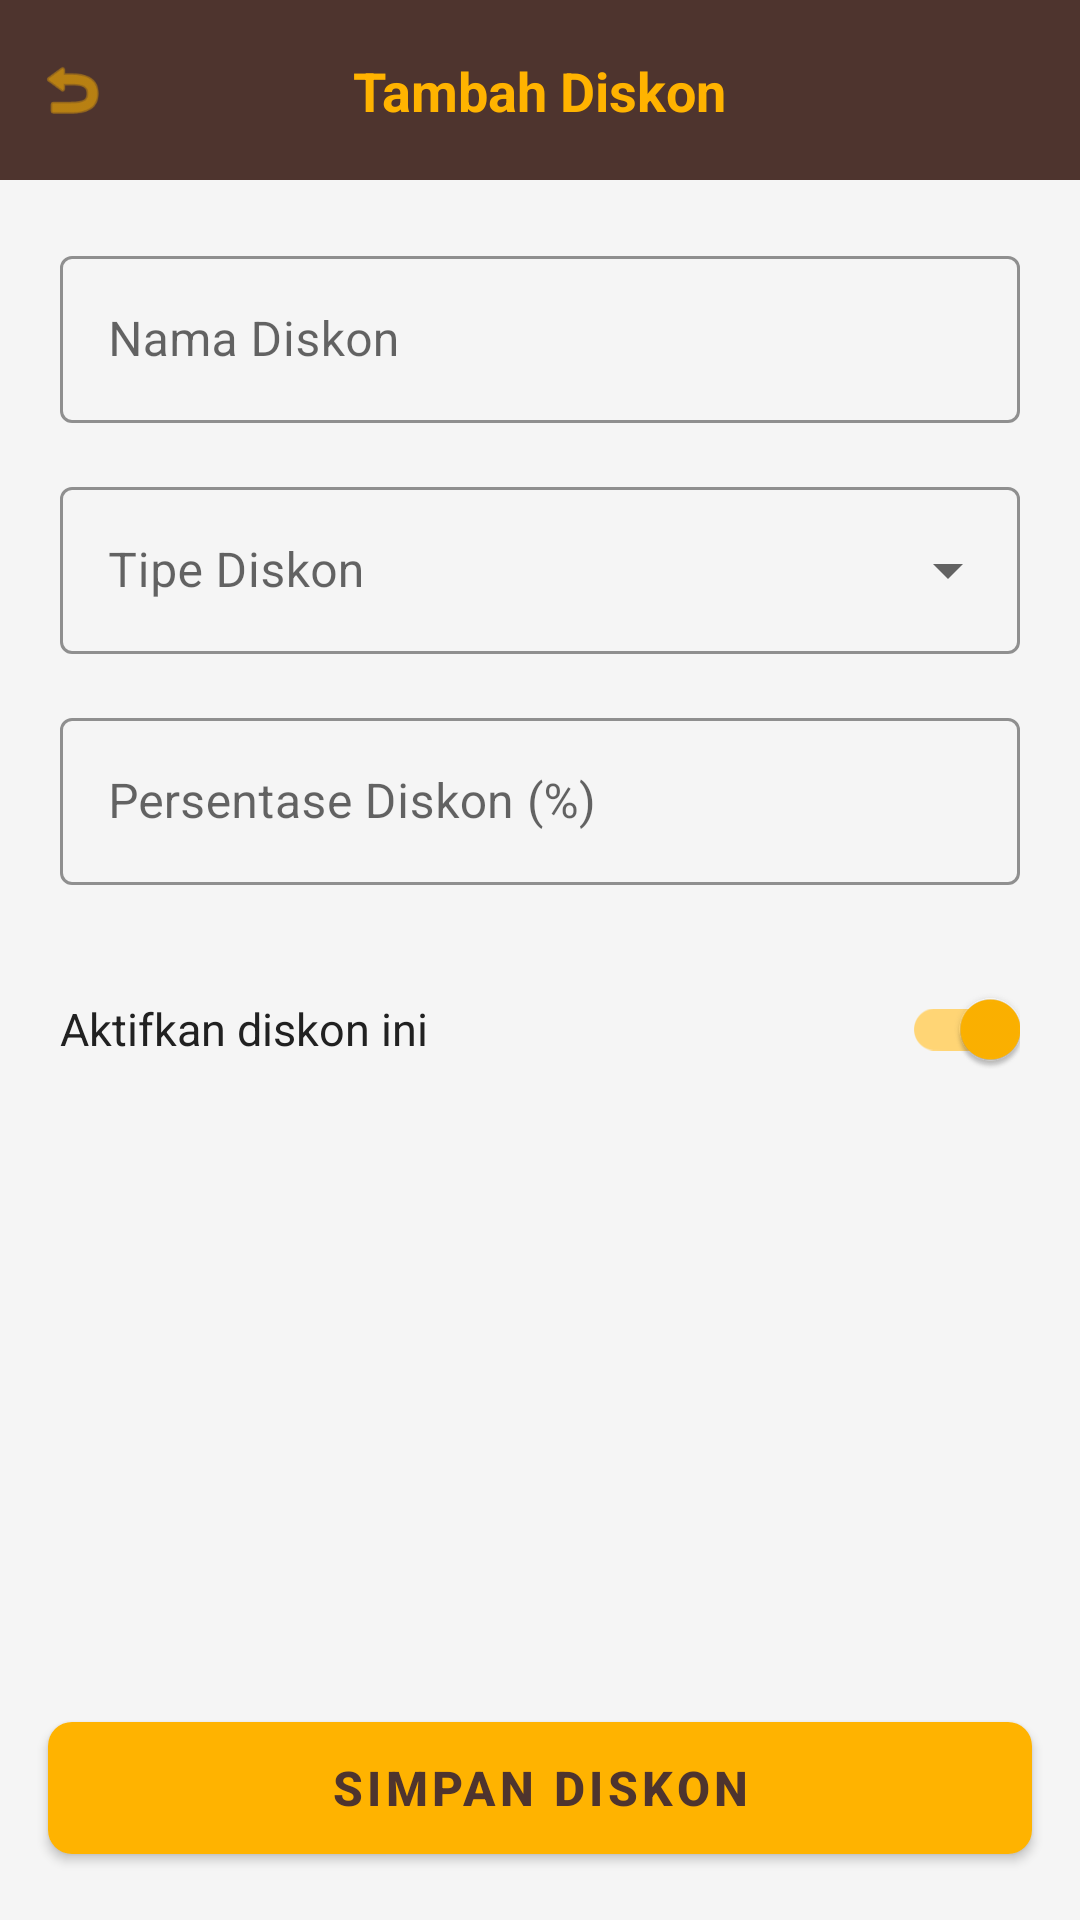

Icons on this 1080w x 1920h Android screen, each with the point to tap as (x=x, y=y):
revert: (x=73, y=90)
